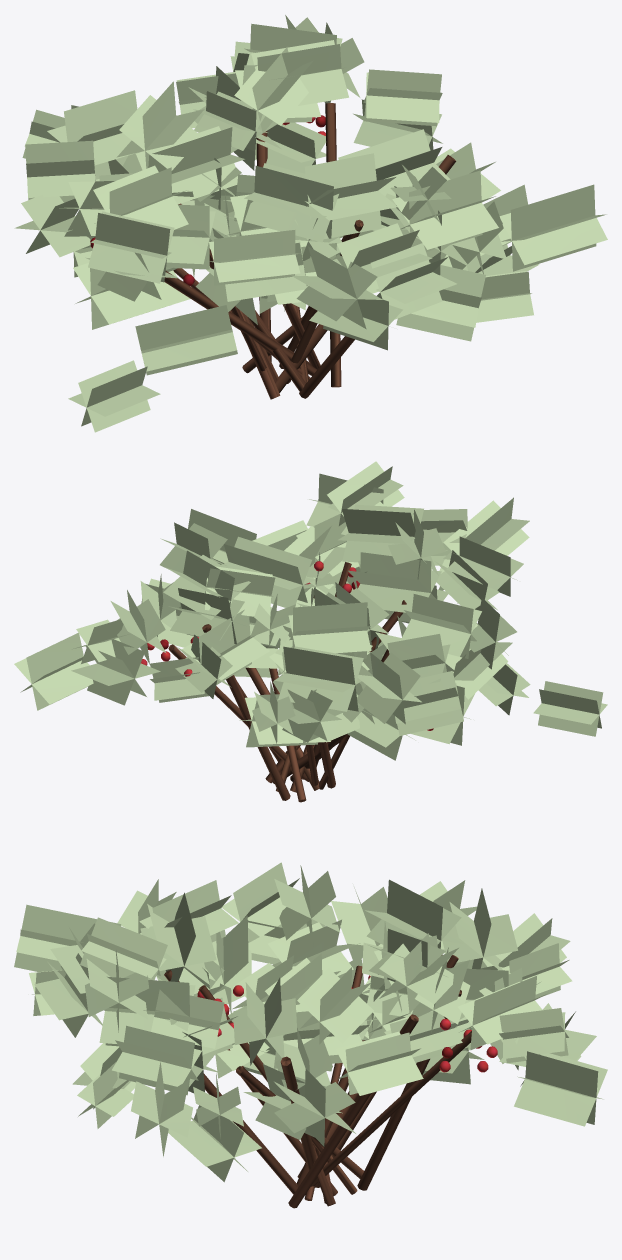
File: mature-lod0.glb
3 views of the same model, one above another, from view 1: azimuth 30°, elevation 25°; view 2: azimuth 150°, elevation 25°; view 3: azimuth 270°, elevation 25° (orthographic). The views are drawn at different scales.
Visible parts, largest first — view 1: redberry-leaf-sprays, redberry-buried-stems-ground-blend-and-fruit; view 2: redberry-leaf-sprays, redberry-buried-stems-ground-blend-and-fruit; view 3: redberry-leaf-sprays, redberry-buried-stems-ground-blend-and-fruit.
Part boxes in pixels (<box>): redberry-leaf-sprays: <box>14,15,607,432</box>; redberry-buried-stems-ground-blend-and-fruit: <box>90,103,456,399</box>; redberry-leaf-sprays: <box>14,461,607,760</box>; redberry-buried-stems-ground-blend-and-fruit: <box>141,561,433,802</box>; redberry-leaf-sprays: <box>14,862,607,1182</box>; redberry-buried-stems-ground-blend-and-fruit: <box>164,955,497,1208</box>.
Size of the model in its own units: 3.88 by 2.16 by 4.12.
